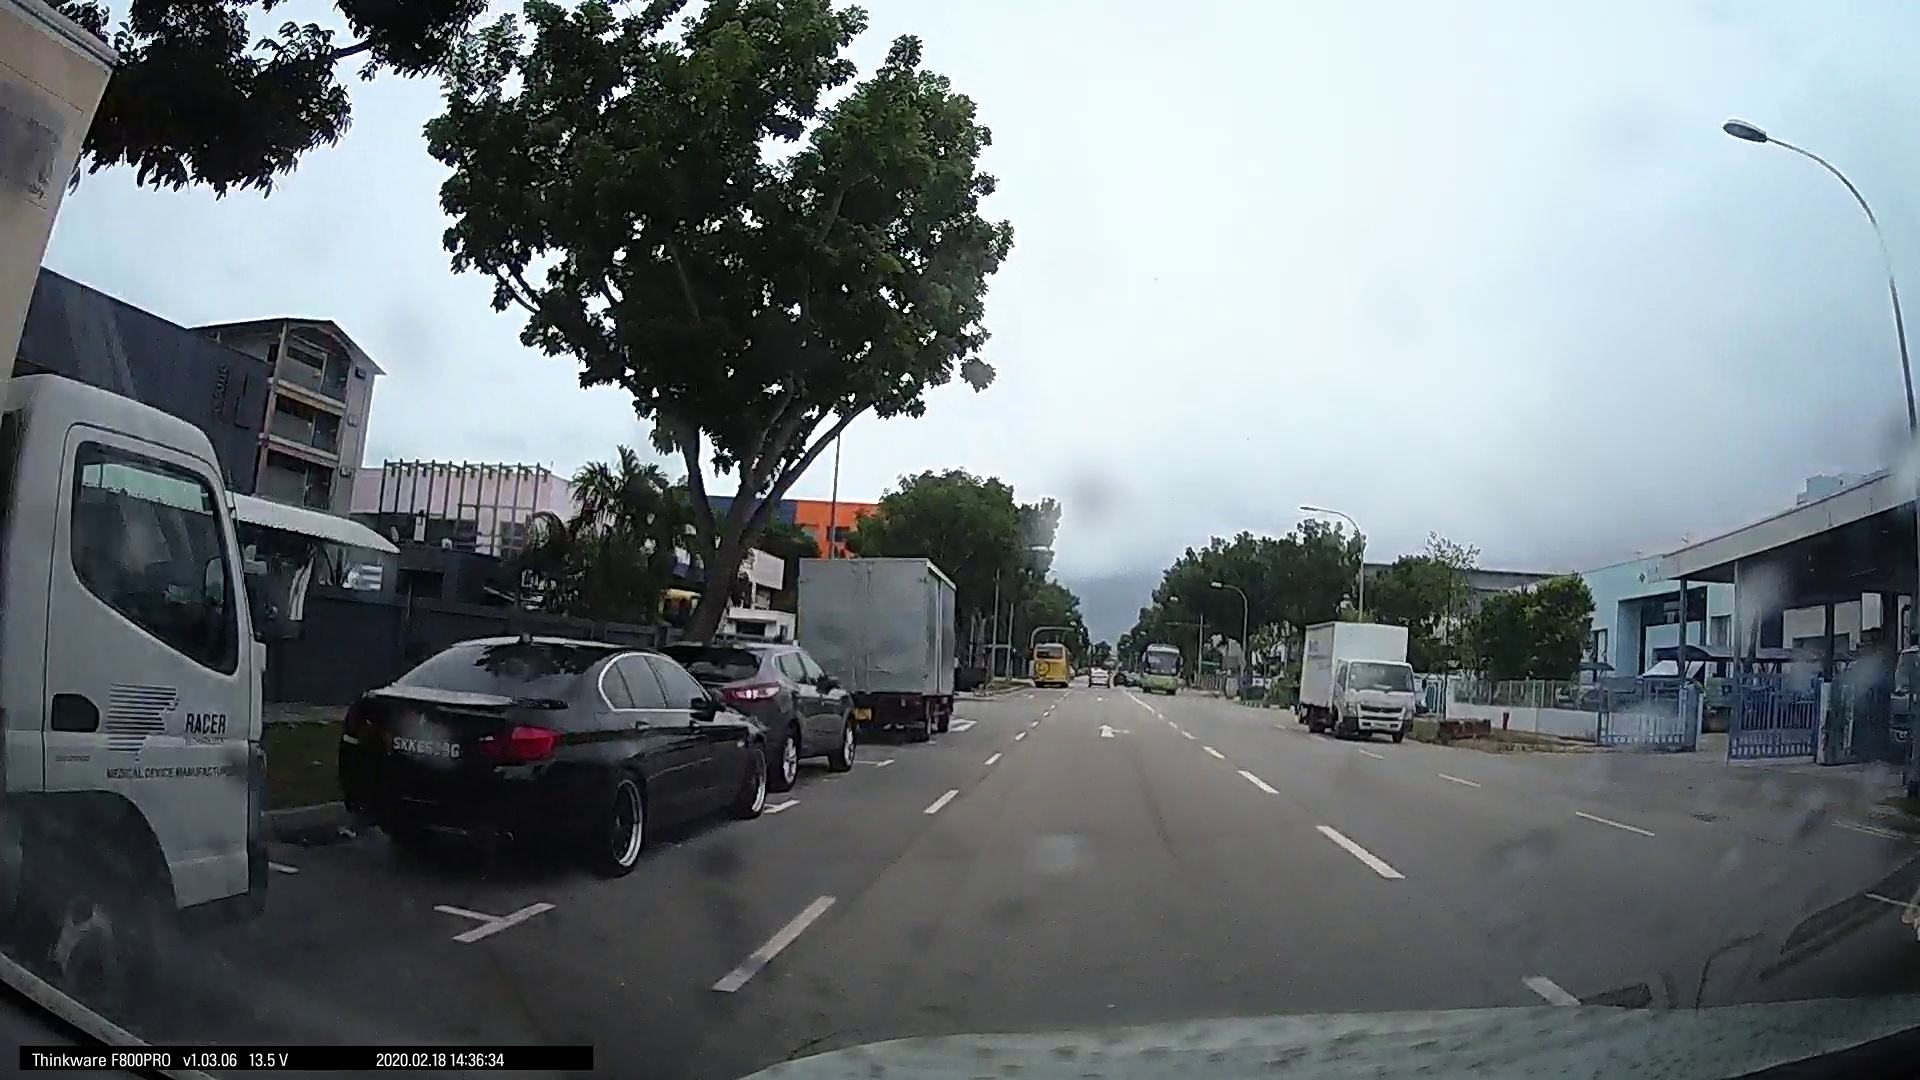Heavy Vehicle: (274, 483, 684, 802), (953, 633, 1130, 773), (769, 649, 837, 713)
Light Vehicle: (1197, 657, 1447, 816), (1768, 702, 1919, 934), (1112, 679, 1199, 757), (769, 649, 836, 712)
